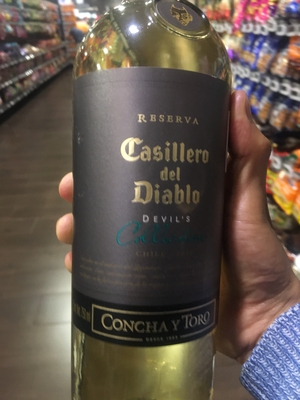casillero del diablo devils collection verde: (69, 20, 246, 400)
